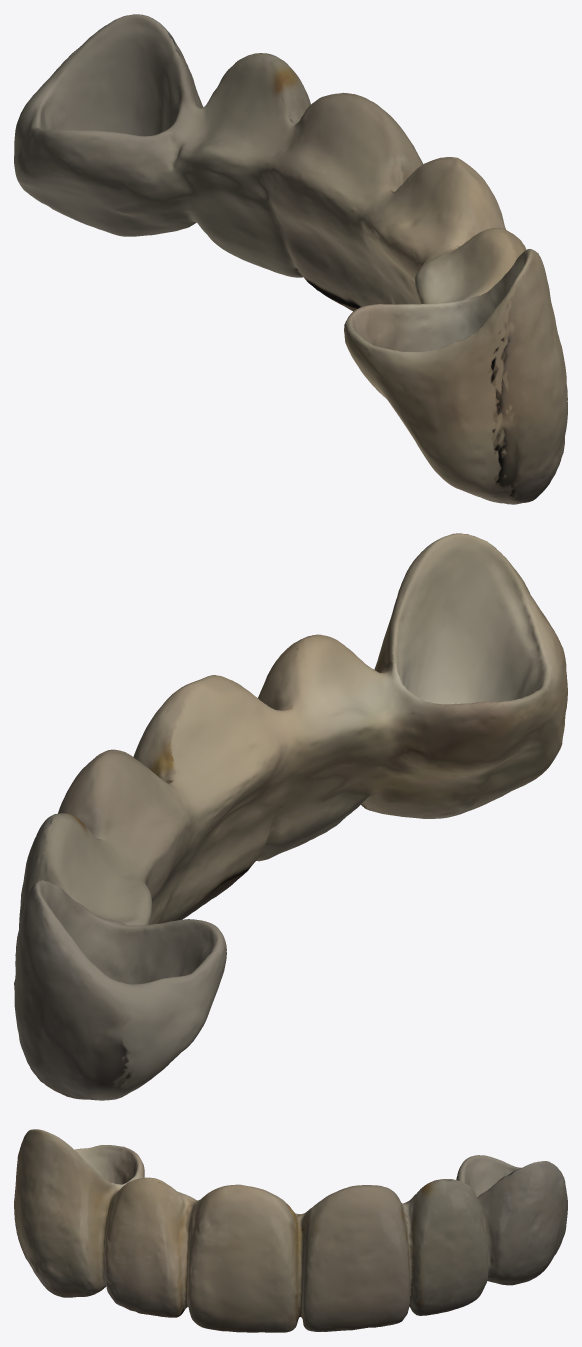
The model's file is zirconia 2 ed.glb.
The picture shows the model from 3 angles, top to bottom: view 1: azimuth 30°, elevation 25°; view 2: azimuth 150°, elevation 25°; view 3: azimuth 270°, elevation 25°; orthographic projection. The views are drawn at different scales.
Visible parts, largest first — view 1: zircon bnridge LowerJawScan; view 2: zircon bnridge LowerJawScan; view 3: zircon bnridge LowerJawScan.
Boxes of the visible parts, box(x1,y1,x2,y2) form: zircon bnridge LowerJawScan: box(14, 14, 567, 504); zircon bnridge LowerJawScan: box(14, 533, 567, 1100); zircon bnridge LowerJawScan: box(14, 1129, 567, 1332).
Size of the model in its own units: 1.38 by 1.33 by 3.95.
1 material, 1 textured.
